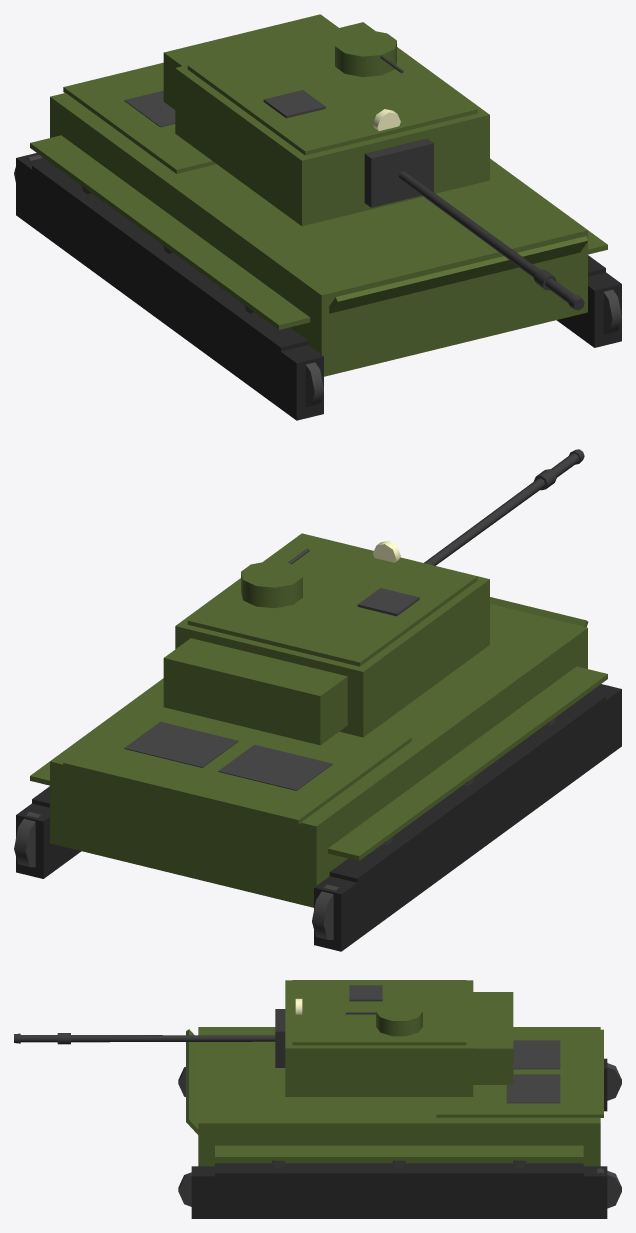
The model's file is m48-patton.glb.
The picture shows the model from 3 angles, top to bottom: view 1: azimuth 30°, elevation 25°; view 2: azimuth 150°, elevation 25°; view 3: azimuth 270°, elevation 25°; orthographic projection. The views are drawn at different scales.
Visible parts, largest first — view 1: Mesh_Hull, Mesh_Turret, Mesh_TrackLeft, Mesh_TurretRoof, Mesh_FenderLeft, Mesh_EngineDeck, Mesh_TrackTopLeft, Mesh_HullFront, Mesh_TurretBustle, Mesh_Mantlet, Mesh_CommanderCupola, Mesh_TrackRight (+5 smaller); view 2: Mesh_Hull, Mesh_TrackLeft, Mesh_TurretRoof, Mesh_EngineDeck, Mesh_Turret, Mesh_TurretBustle, Mesh_FenderLeft, Mesh_TrackTopLeft, Mesh_GrilleRight, Mesh_GrilleLeft, Mesh_CommanderCupola, Mesh_TrackRight (+5 smaller); view 3: Mesh_Hull, Mesh_TrackRight, Mesh_Turret, Mesh_TurretRoof, Mesh_EngineDeck, Mesh_FenderRight, Mesh_TrackTopRight, Mesh_TurretBustle, Mesh_MainGun, Mesh_GrilleLeft, Mesh_GrilleRight, Mesh_CommanderCupola (+6 smaller).
Boxes of the visible parts, bbox=[...] form: Mesh_Hull: bbox=[50, 93, 587, 376]; Mesh_Turret: bbox=[175, 22, 489, 226]; Mesh_TrackLeft: bbox=[16, 153, 323, 420]; Mesh_TurretRoof: bbox=[187, 23, 477, 155]; Mesh_FenderLeft: bbox=[30, 135, 310, 329]; Mesh_EngineDeck: bbox=[63, 62, 216, 173]; Mesh_TrackTopLeft: bbox=[32, 161, 308, 351]; Mesh_HullFront: bbox=[329, 236, 588, 313]; Mesh_TurretBustle: bbox=[163, 14, 338, 109]; Mesh_Mantlet: bbox=[364, 138, 433, 207]; Mesh_CommanderCupola: bbox=[335, 30, 396, 76]; Mesh_TrackRight: bbox=[556, 272, 621, 347]; Mesh_Hull: bbox=[50, 604, 587, 907]; Mesh_TrackLeft: bbox=[314, 684, 621, 951]; Mesh_TurretRoof: bbox=[187, 534, 477, 666]; Mesh_EngineDeck: bbox=[63, 690, 411, 824]; Mesh_Turret: bbox=[175, 533, 489, 737]; Mesh_TurretBustle: bbox=[163, 638, 347, 745]; Mesh_FenderLeft: bbox=[328, 666, 607, 860]; Mesh_TrackTopLeft: bbox=[329, 692, 605, 882]; Mesh_GrilleRight: bbox=[218, 744, 332, 790]; Mesh_GrilleLeft: bbox=[124, 721, 238, 767]; Mesh_CommanderCupola: bbox=[241, 561, 302, 608]; Mesh_TrackRight: bbox=[16, 803, 81, 878]; Mesh_Hull: bbox=[198, 1027, 600, 1166]; Mesh_TrackRight: bbox=[191, 1166, 607, 1218]; Mesh_Turret: bbox=[285, 980, 473, 1096]; Mesh_TurretRoof: bbox=[292, 980, 466, 1045]; Mesh_EngineDeck: bbox=[436, 1029, 603, 1117]; Mesh_FenderRight: bbox=[215, 1145, 583, 1160]; Mesh_TrackTopRight: bbox=[215, 1163, 583, 1176]; Mesh_TurretBustle: bbox=[473, 992, 513, 1084]; Mesh_MainGun: bbox=[20, 1035, 275, 1042]; Mesh_GrilleLeft: bbox=[506, 1074, 560, 1103]; Mesh_GrilleRight: bbox=[513, 1040, 560, 1069]; Mesh_CommanderCupola: bbox=[376, 1002, 422, 1036].
Size of the model in its own units: 4.2 by 2.72 by 9.07.
